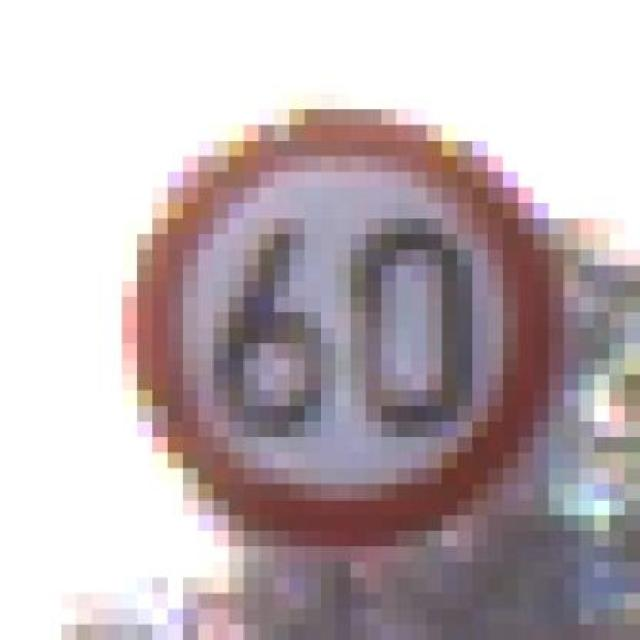forb_speed_over_60: (138, 112, 545, 537)
